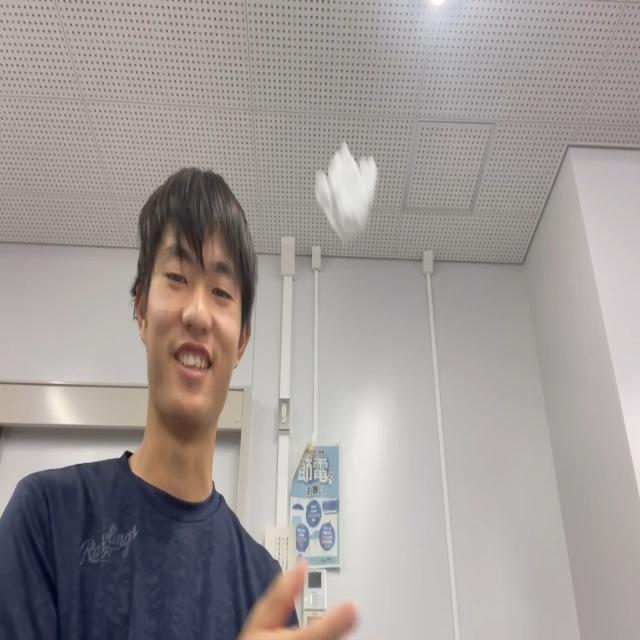paper: (314, 140, 378, 242)
